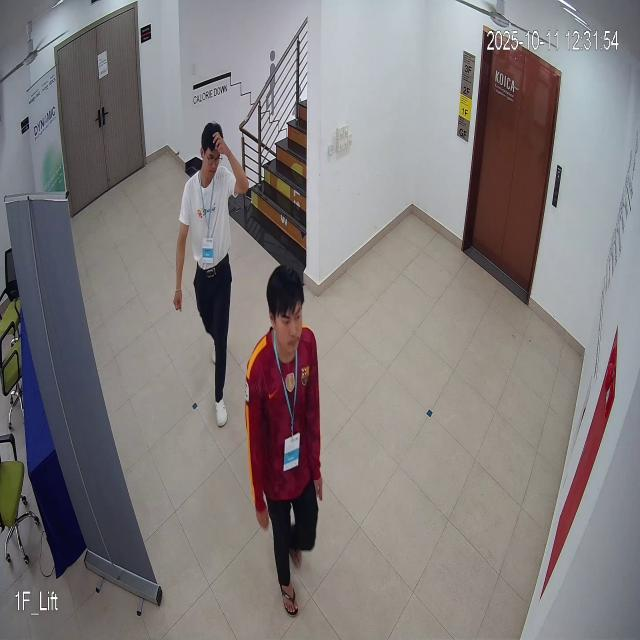face: (266, 260, 306, 358), (196, 116, 234, 188)
